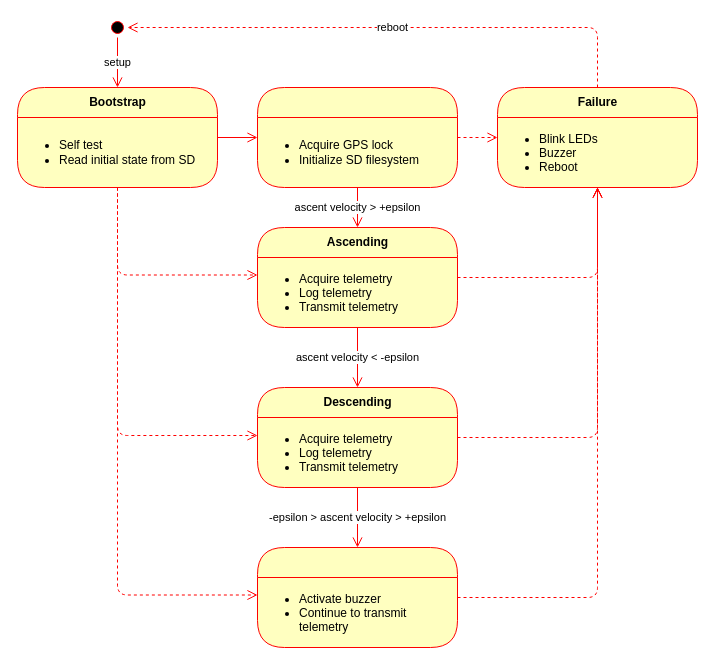
Some shapes in this 715 by 665 pixel diagram are drawn without their labels. The box of each missing label's shape, as (x1, y1, x2, y2) in pixels:
Initializing: (256, 86, 458, 188)
Landed: (256, 546, 458, 648)
